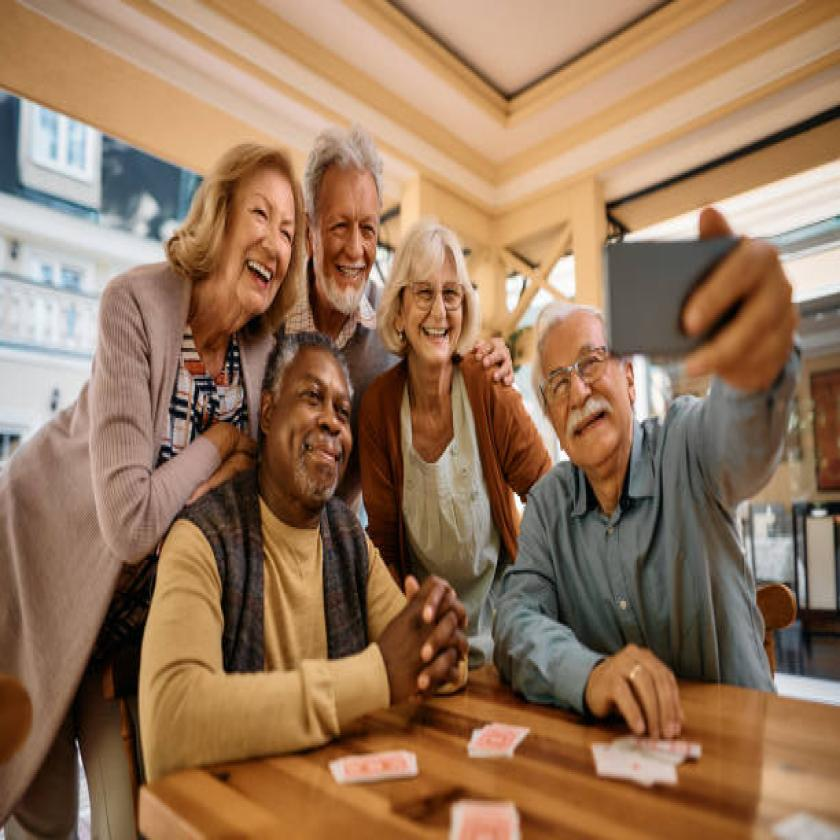Sin_casco: (171, 102, 304, 338), (263, 316, 372, 506), (536, 287, 628, 484), (379, 204, 483, 377), (298, 118, 386, 314)
